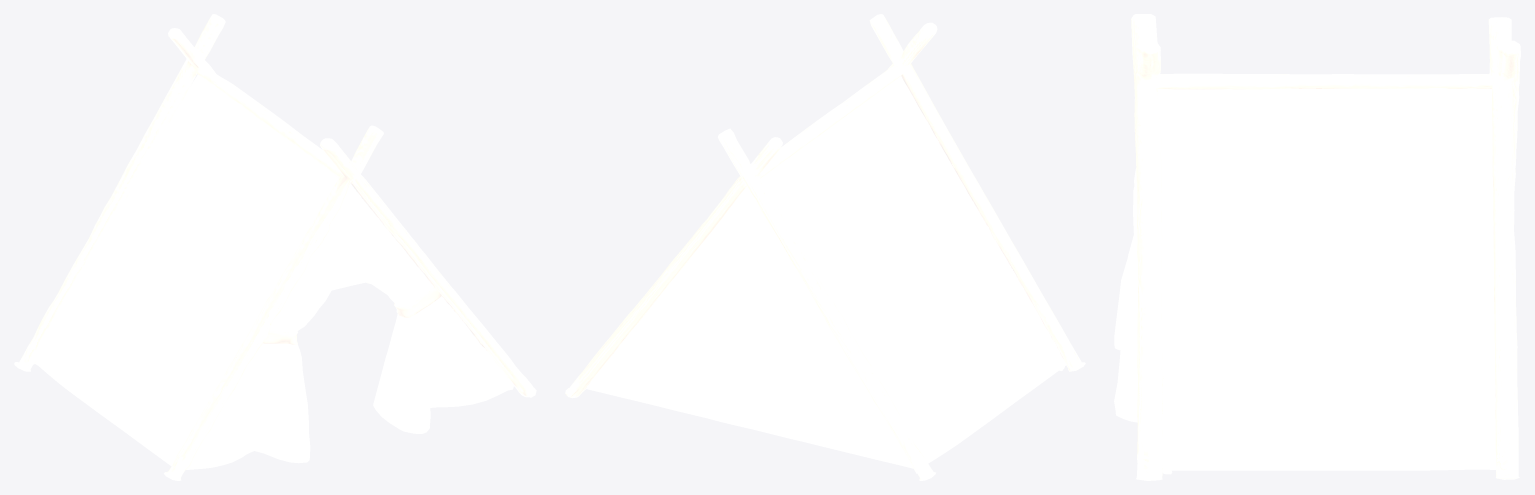
File: tent-painted-blue-final.glb
The picture shows the model from 3 angles, left to right: view 1: azimuth 30°, elevation 25°; view 2: azimuth 150°, elevation 25°; view 3: azimuth 270°, elevation 25°; orthographic projection. The views are drawn at different scales.
Parts seen in each view (by area): view 1: Tent_Reference_BluePainted; view 2: Tent_Reference_BluePainted; view 3: Tent_Reference_BluePainted.
Boxes of the visible parts, x1=… form: Tent_Reference_BluePainted: x1=14, y1=14, x2=536, y2=480; Tent_Reference_BluePainted: x1=565, y1=14, x2=1085, y2=480; Tent_Reference_BluePainted: x1=1114, y1=14, x2=1520, y2=480.
Size of the model in its own units: 1 by 0.7969 by 0.8281.
Materials: 1 (1 with a texture image).
